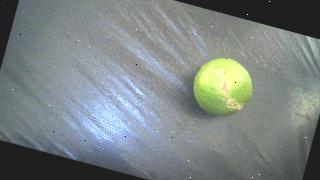DESECHO: (187, 52, 259, 123)
